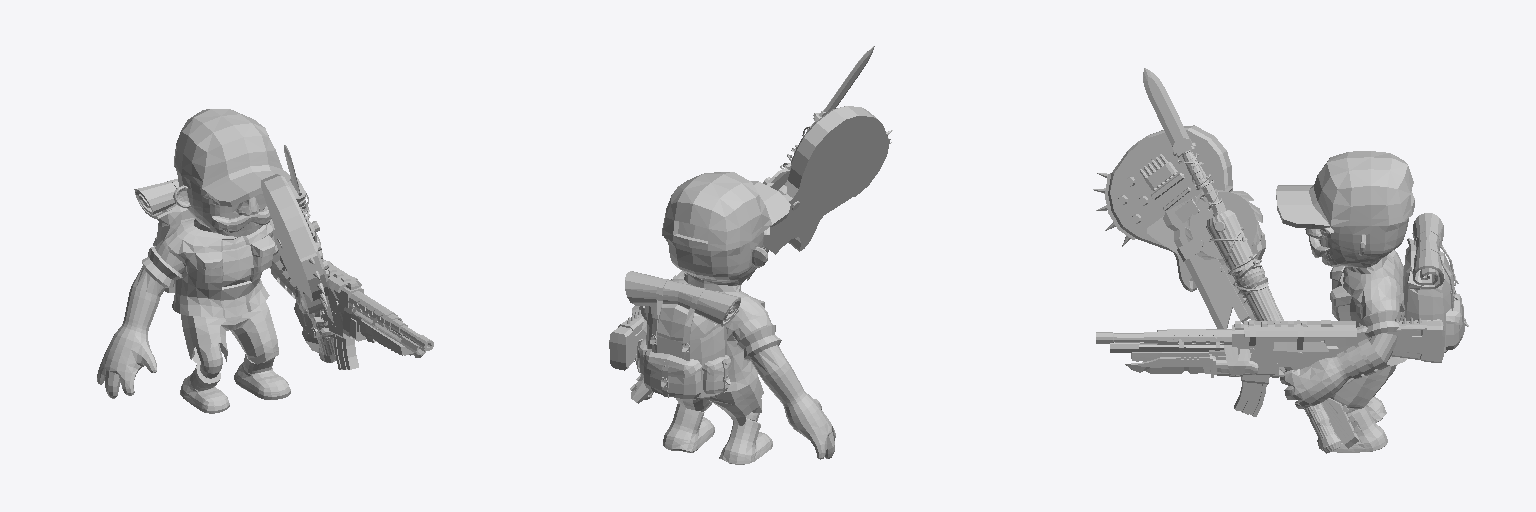
Rendered from Characters_Shaun.obj.
3 views of the same model, side by side, from view 1: azimuth 30°, elevation 25°; view 2: azimuth 150°, elevation 25°; view 3: azimuth 270°, elevation 25° (orthographic).
Parts seen in each view (by area): view 1: Shaun_Cube.011, Guitar_Cube.008, SMG_Cube.064, Rifle_Cube.010, Shotgun_Cube.002, Pistol_Cube.007, Spear_Cylinder.027; view 2: Shaun_Cube.011, Guitar_Cube.008, Rifle_Cube.010, Spear_Cylinder.027; view 3: Shaun_Cube.011, Guitar_Cube.008, Rifle_Cube.010, WoodenBat_Saw_CUBezierCurve.001, SMG_Cube.064, Pistol_Cube.007, Axe_Cylinder.014, Spear_Cylinder.027, WoodenBat_Barbed_Cylinder.005, Shotgun_Cube.002.
Boxes of the visible parts, x1,y1,x2,y2 form: Shaun_Cube.011: [97, 109, 332, 413]; Guitar_Cube.008: [261, 174, 329, 352]; SMG_Cube.064: [277, 251, 407, 338]; Rifle_Cube.010: [280, 256, 433, 369]; Shotgun_Cube.002: [294, 302, 425, 355]; Pistol_Cube.007: [298, 305, 422, 357]; Spear_Cylinder.027: [284, 145, 310, 219]; Shaun_Cube.011: [625, 172, 835, 464]; Guitar_Cube.008: [630, 106, 892, 403]; Rifle_Cube.010: [609, 273, 685, 370]; Spear_Cylinder.027: [780, 46, 874, 180]; Shaun_Cube.011: [1276, 151, 1468, 452]; Guitar_Cube.008: [1093, 125, 1360, 448]; Rifle_Cube.010: [1096, 316, 1444, 416]; WoodenBat_Saw_CUBezierCurve.001: [1185, 185, 1340, 452]; SMG_Cube.064: [1144, 320, 1356, 384]; Pistol_Cube.007: [1125, 340, 1328, 377]; Axe_Cylinder.014: [1163, 197, 1330, 426]; Spear_Cylinder.027: [1143, 68, 1333, 429]; WoodenBat_Barbed_Cylinder.005: [1206, 210, 1339, 453]; Shotgun_Cube.002: [1110, 342, 1297, 370].
Bounding box in the file's own units: 1.18 × 1.77 × 1.79.